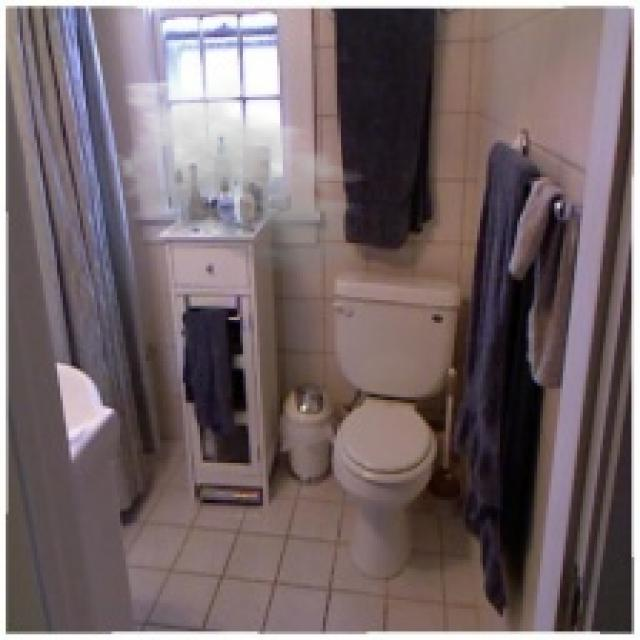smoke: (109, 74, 380, 277)
